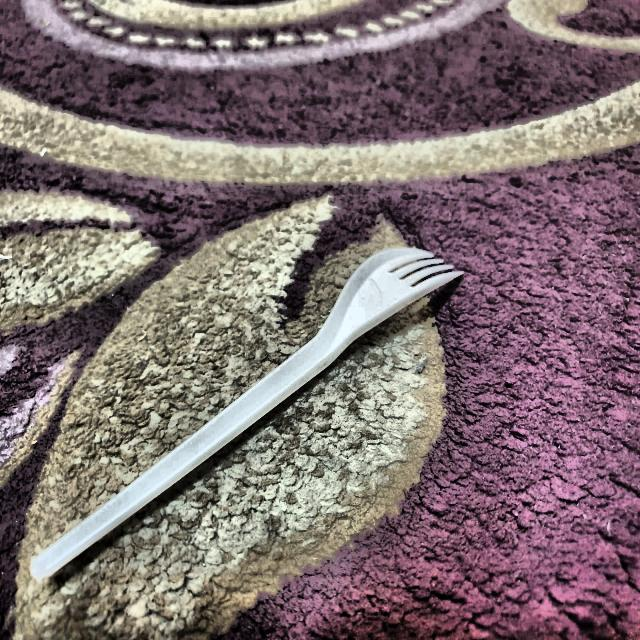plastic utensil: (26, 239, 466, 586)
